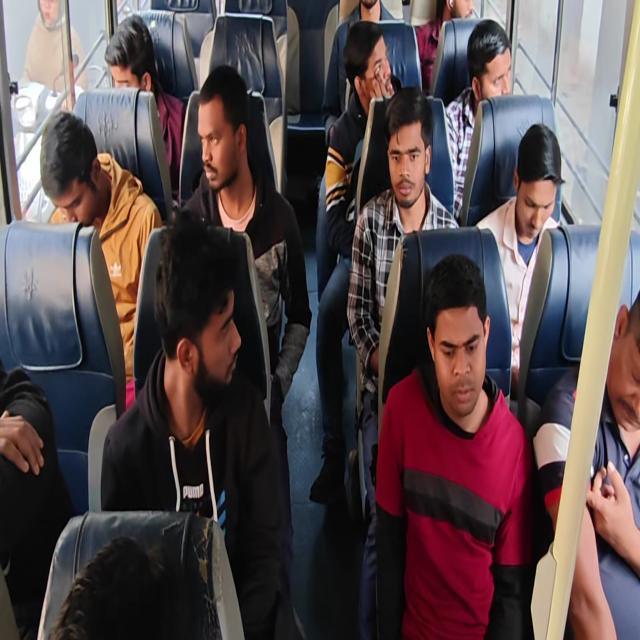person: (152, 211, 246, 408), (43, 529, 193, 640), (422, 256, 497, 424), (34, 106, 103, 232), (508, 119, 572, 242), (192, 64, 250, 198), (600, 286, 640, 438), (381, 85, 430, 208), (95, 7, 158, 96), (463, 22, 520, 106), (341, 12, 396, 99), (441, 0, 488, 37), (352, 0, 392, 23)
